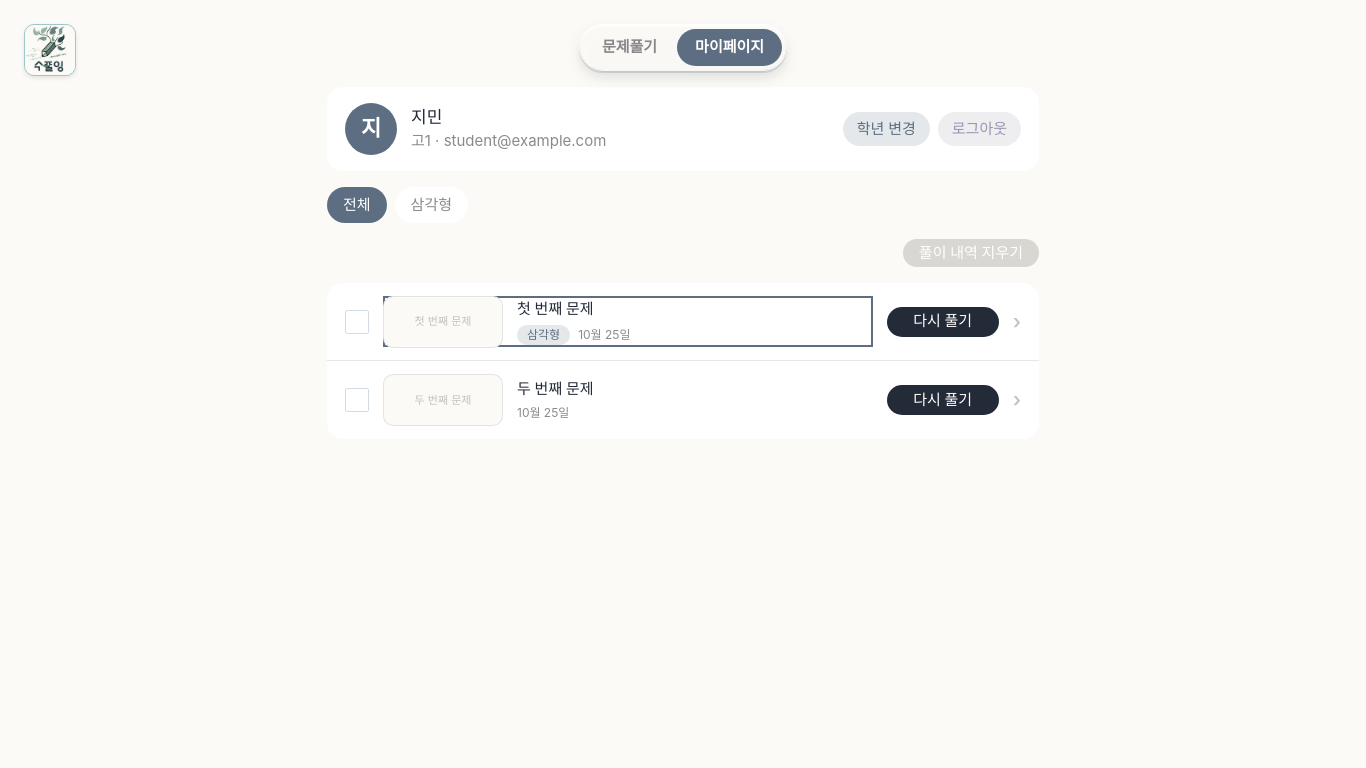
Test: RS8·RS11 resume 섹션 조립 › resume만: '저장된 풀이가 없는 문제예요' 없음, h3 sr-only, 학생 줄(읽기 전용·배지) → 이어풀기 카드 → 답
Click the button "첫 번째 문제 첫 번째 문제 삼각형 10월 25일" at coordinates (443, 322), box [383,296,873,347]
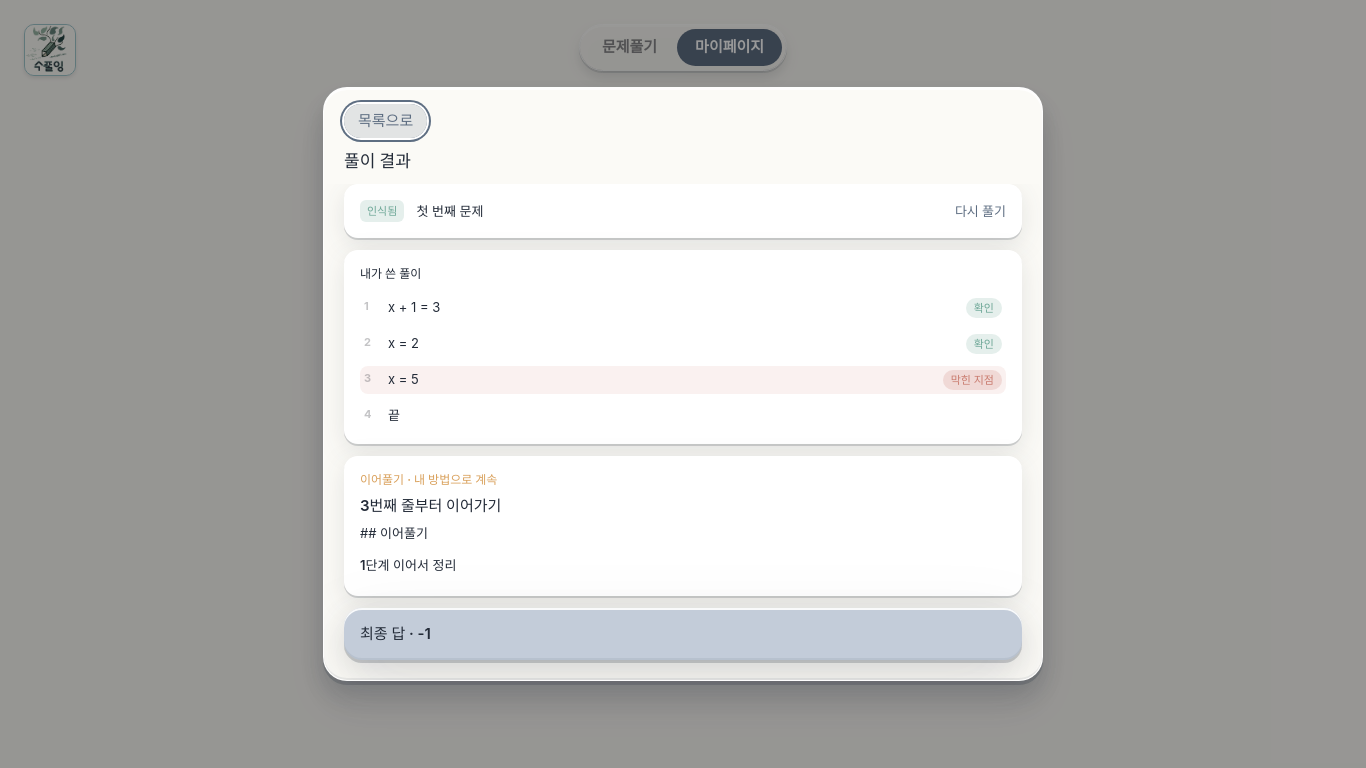
expect the element named "이어풀기 결과" is shown: met, box [344,250,1022,660]
expect the text "내가 쓴 풀이" is shown: met, box [360,266,421,282]
expect the text "확인" is shown 2 times: met, box [966,298,1002,318]; [966,334,1002,354]
